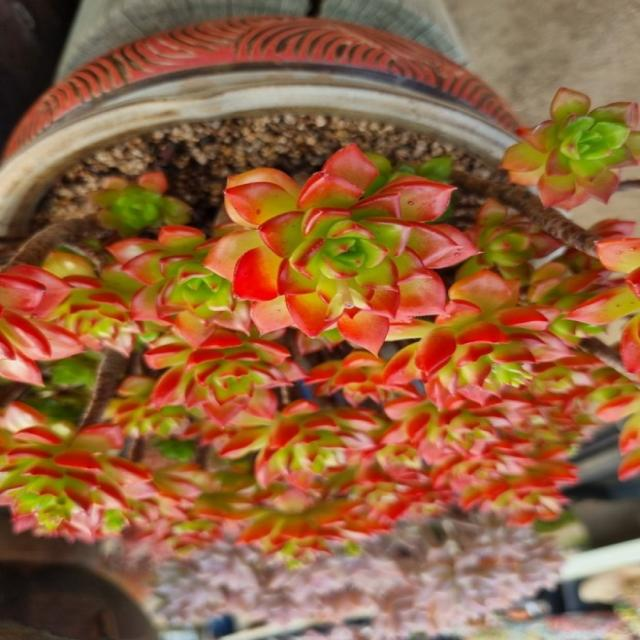Letizia: (205, 145, 475, 352), (385, 271, 572, 408), (0, 404, 155, 542), (108, 226, 250, 346), (502, 88, 639, 210), (145, 329, 305, 426), (220, 399, 380, 490), (305, 351, 419, 406)
